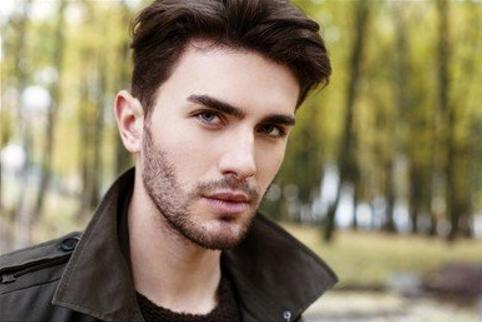Sober: (160, 47, 288, 237)
